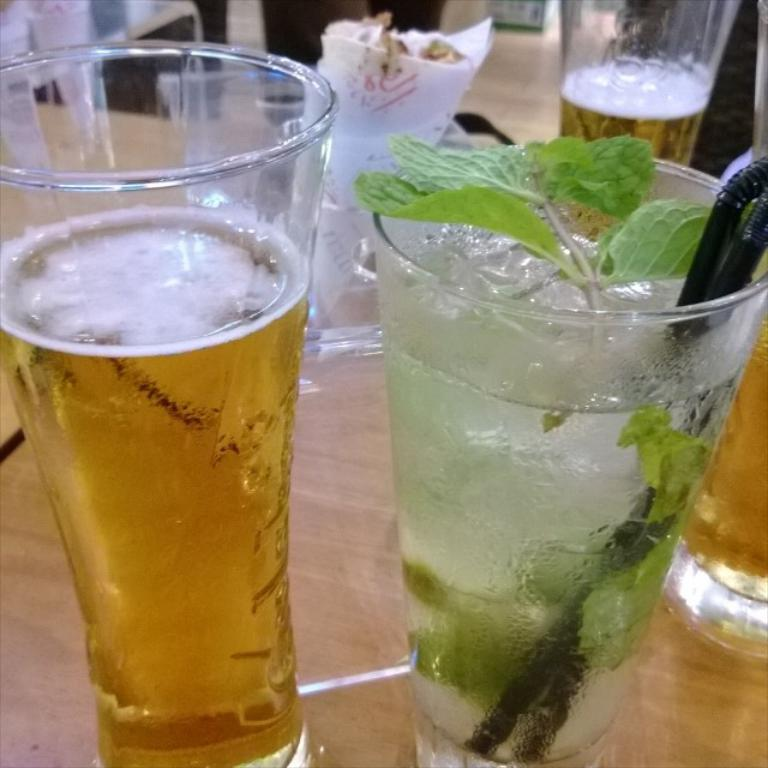Beer: (0, 44, 340, 768), (662, 309, 768, 662), (558, 0, 747, 169)
